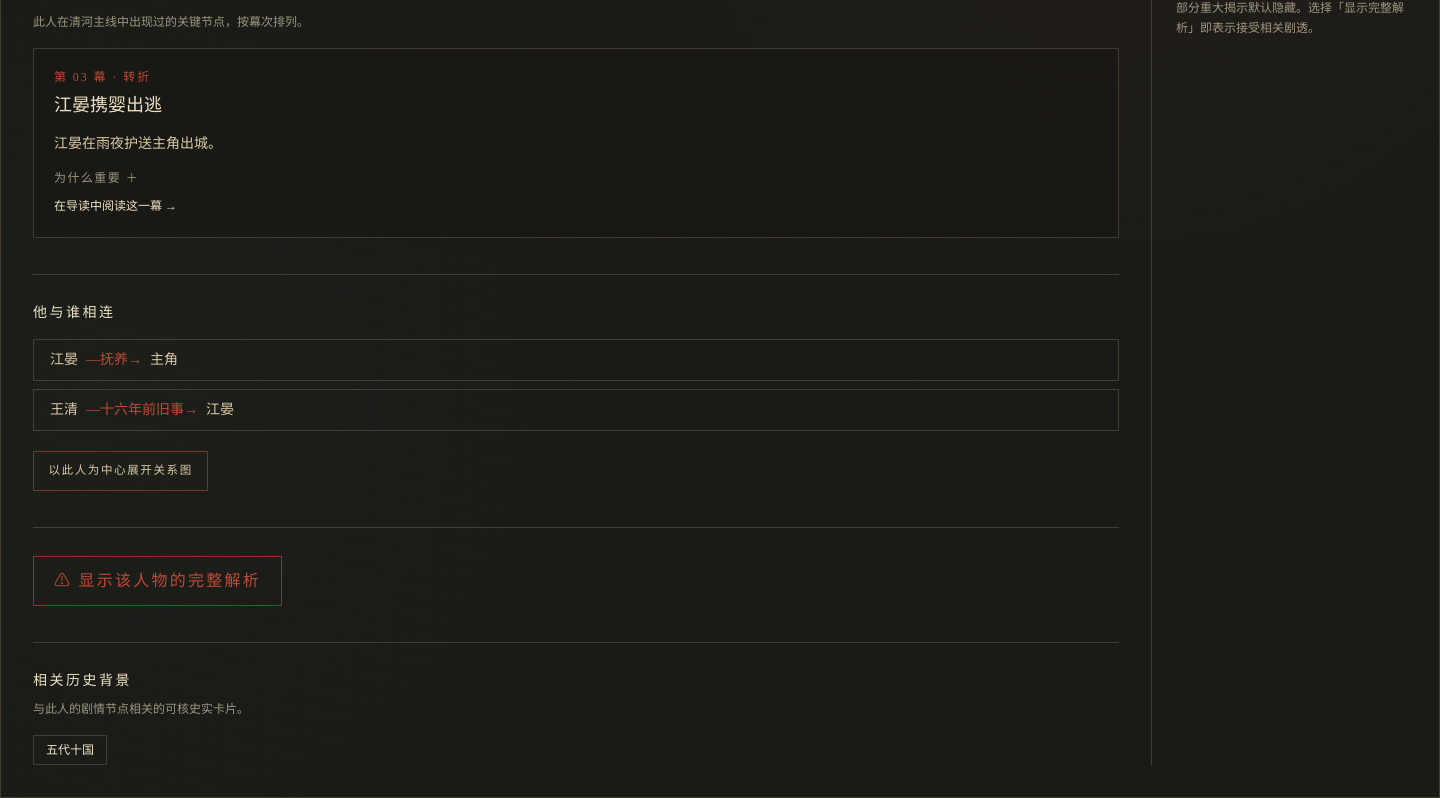
CharacterProfile progressive reading (Wave 1) › renders sections in the order 初识 → 剧情足迹 → 关系 → 解析 → 历史
(page scrolled)
Expected: the heading "江晏携婴出逃" is shown, [54, 95, 162, 115]
Expected: the heading "他与谁相连" is shown, [33, 305, 116, 320]
# G3：五个分区按固定顺序渲染。先 Reveal 让「完整解析」出现，再验证真实 DOM 位序。
Click the button "⚠ 显示该人物的完整解析".
click(157, 581)  # box [33, 556, 282, 606]
(page scrolled)
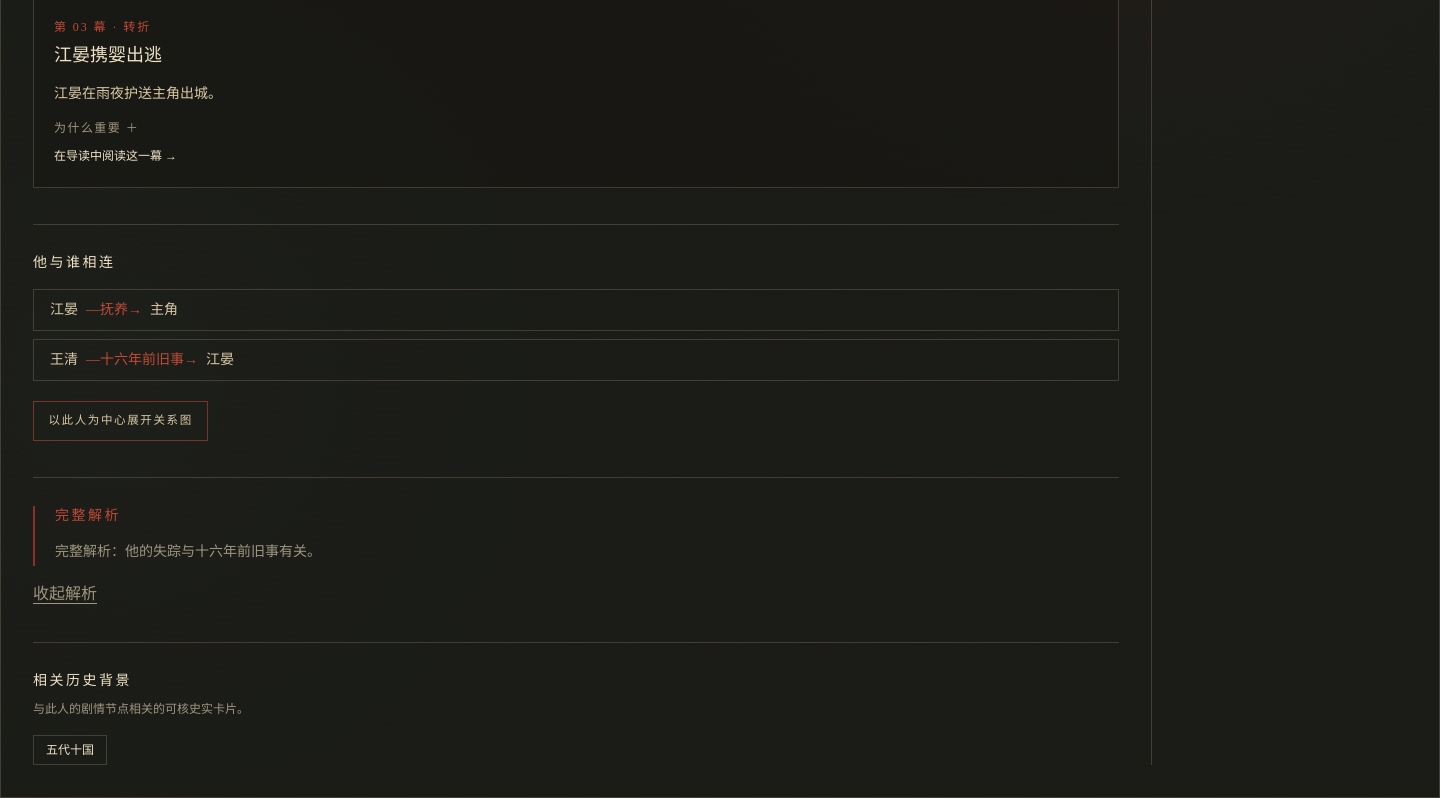
Now the text "完整解析：他的失踪与十六年前旧事有关。" is shown, box [55, 544, 321, 559]
